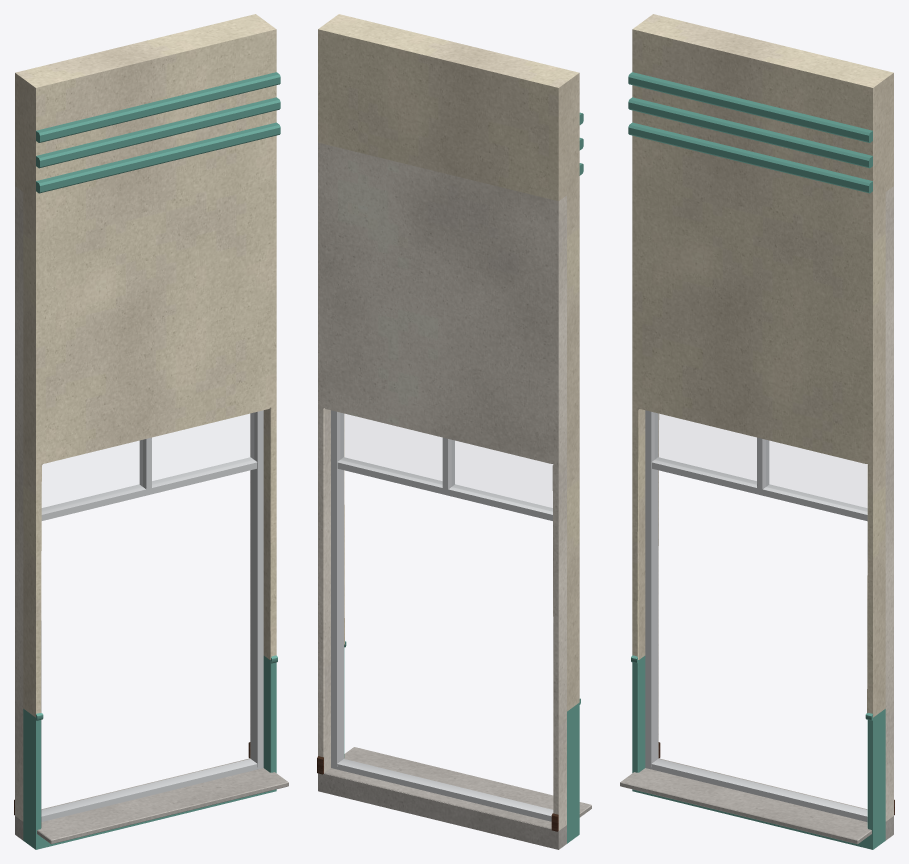
File: w_door2.glb
The picture shows the model from 3 angles, left to right: view 1: azimuth 30°, elevation 25°; view 2: azimuth 150°, elevation 25°; view 3: azimuth 330°, elevation 25°; orthographic projection.
Parts seen in each view (by area): view 1: w_door2_render, w_door2_frame, w_door2_trim_g, w_door2_glass, w_door2_concrete, w_door2_plaster, w_door2_tile_g; view 2: w_door2_plaster, w_door2_render, w_door2_frame, w_door2_concrete, w_door2_glass, w_door2_tile_g; view 3: w_door2_render, w_door2_frame, w_door2_trim_g, w_door2_glass, w_door2_concrete, w_door2_plaster, w_door2_tile_g.
Part boxes in pixels (box(x1,y1,x2,y2)): w_door2_render: box(15, 14, 276, 717); w_door2_frame: box(41, 410, 263, 821); w_door2_trim_g: box(36, 72, 280, 193); w_door2_glass: box(42, 413, 253, 510); w_door2_concrete: box(15, 758, 288, 844); w_door2_plaster: box(15, 186, 250, 821); w_door2_tile_g: box(23, 655, 277, 849); w_door2_plaster: box(318, 142, 566, 830); w_door2_render: box(318, 14, 579, 711); w_door2_frame: box(331, 410, 553, 821); w_door2_concrete: box(318, 747, 591, 849); w_door2_glass: box(341, 413, 552, 510); w_door2_tile_g: box(344, 641, 580, 843); w_door2_render: box(632, 14, 893, 717); w_door2_frame: box(645, 410, 867, 821); w_door2_trim_g: box(628, 72, 872, 193); w_door2_glass: box(655, 413, 866, 510); w_door2_concrete: box(620, 758, 893, 844); w_door2_plaster: box(658, 186, 893, 821); w_door2_tile_g: box(631, 655, 885, 849).
Bounding box in the file's own units: 2 × 6.05 × 0.516.
Materials: 8 (4 with a texture image).
